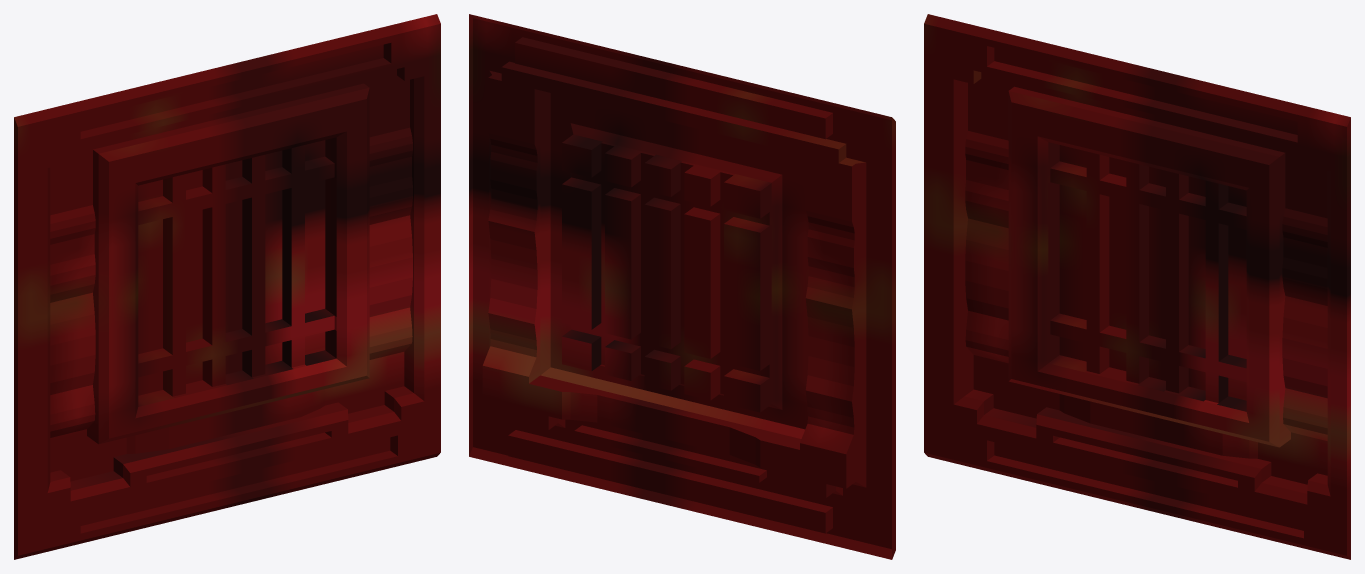
File: sci2_1.fbx
The picture shows the model from 3 angles, left to right: view 1: azimuth 30°, elevation 25°; view 2: azimuth 150°, elevation 25°; view 3: azimuth 330°, elevation 25°; orthographic projection.
Visible parts, largest first — view 1: sci2_1_mesh; view 2: sci2_1_mesh; view 3: sci2_1_mesh.
Boxes of the visible parts, x1,y1,x2,y2 form: sci2_1_mesh: (14, 14, 440, 559); sci2_1_mesh: (469, 14, 895, 559); sci2_1_mesh: (924, 14, 1350, 559).
Size of the model in its own units: 256 by 256 by 16.
